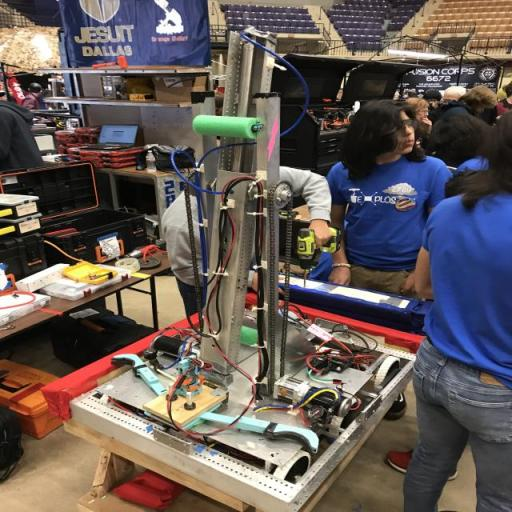robot: (42, 34, 416, 512)
